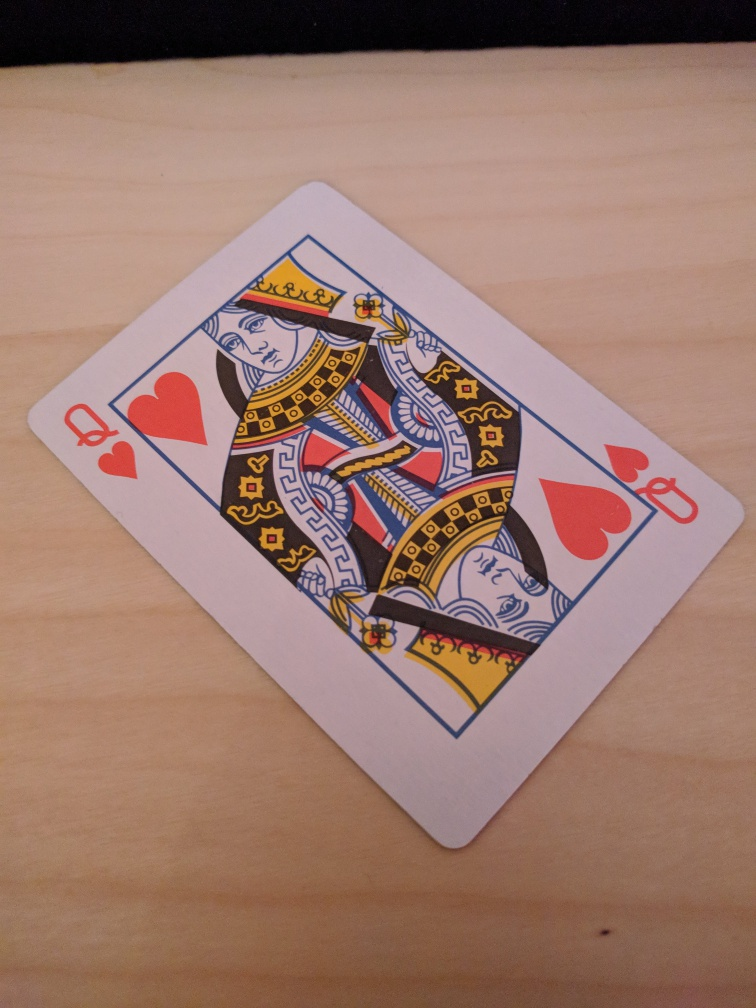queen: (25, 180, 745, 851)
